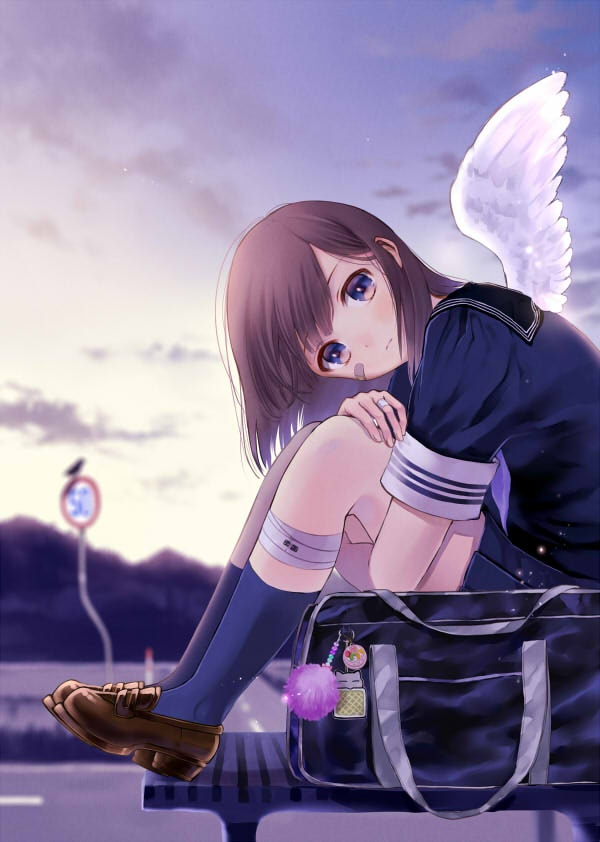纸片人正脸: (217, 198, 435, 411)
